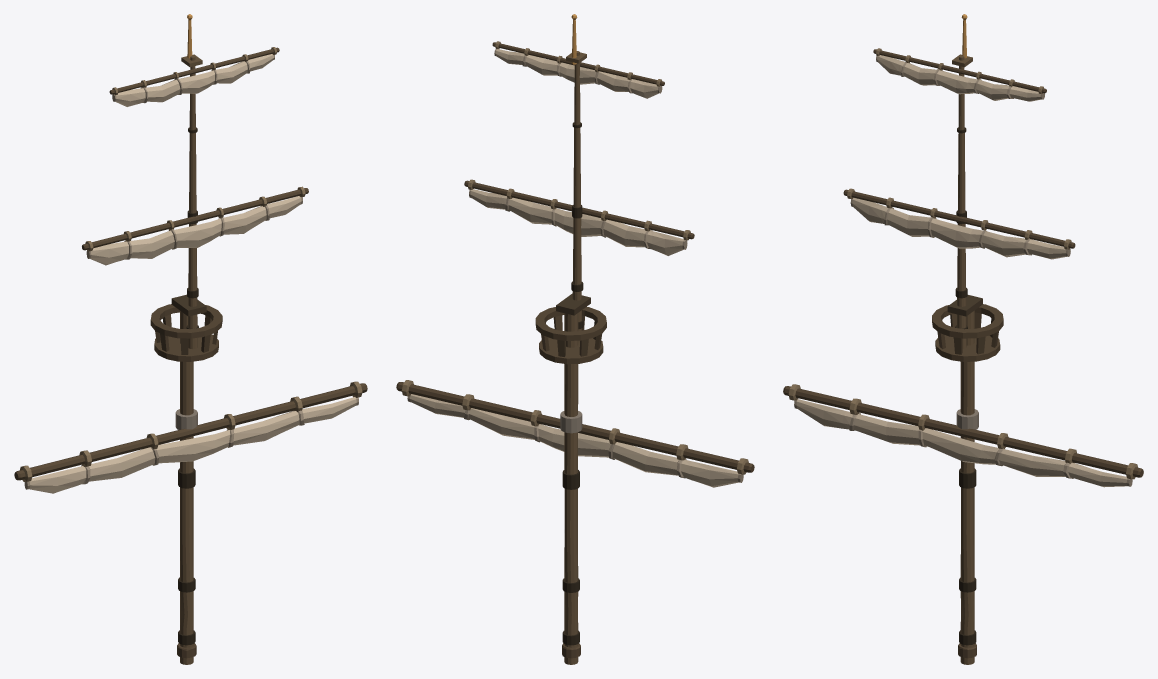
Rendered from SM_Veh_Boat_Warship_01_Mast_SailUp_02.glb.
3 renders of one model, left to right at view 1: azimuth 30°, elevation 25°; view 2: azimuth 150°, elevation 25°; view 3: azimuth 330°, elevation 25°, orthographic.
Parts seen in each view (by area): view 1: SM_Veh_Boat_Warship_01_Mast_SailUp_02; view 2: SM_Veh_Boat_Warship_01_Mast_SailUp_02; view 3: SM_Veh_Boat_Warship_01_Mast_SailUp_02.
Part boxes in pixels (x1,y1,x2,y2): SM_Veh_Boat_Warship_01_Mast_SailUp_02: (14,14,367,664); SM_Veh_Boat_Warship_01_Mast_SailUp_02: (396,14,754,664); SM_Veh_Boat_Warship_01_Mast_SailUp_02: (783,14,1143,664).
Size of the model in its own units: 0.1459 by 0.2568 by 0.0259.
1 material, 1 textured.
